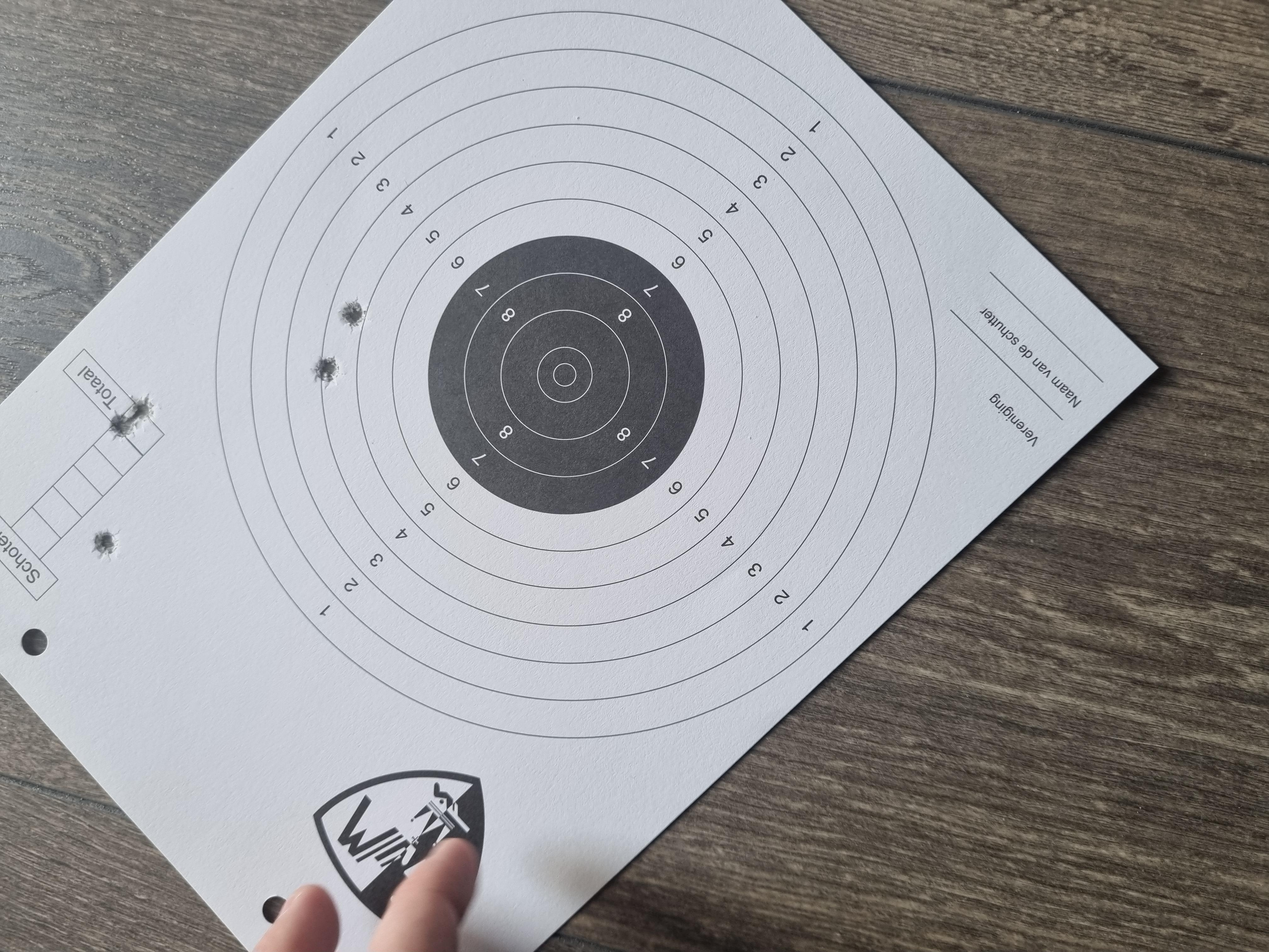hole: (824, 255, 874, 274), (521, 69, 564, 91), (680, 81, 722, 102), (753, 235, 794, 254), (706, 97, 745, 116)
